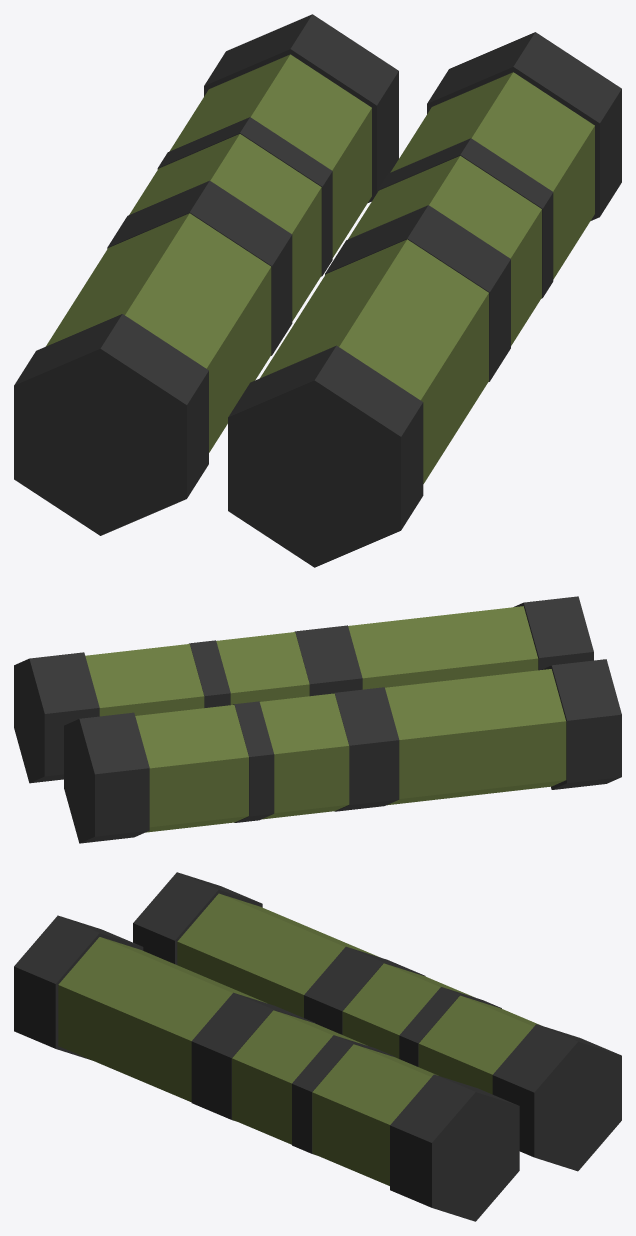
Rendered from ce_ammo2_rpg32_thermo_b.obj.
The picture shows the model from 3 angles, top to bottom: view 1: azimuth 30°, elevation 25°; view 2: azimuth 150°, elevation 25°; view 3: azimuth 270°, elevation 25°; orthographic projection. The views are drawn at different scales.
Parts seen in each view (by area): view 1: ce_ammo2_rpg32_thermo_b_7, ce_ammo2_rpg32_thermo_b_0, ce_ammo2_rpg32_thermo_b_8, ce_ammo2_rpg32_thermo_b_1, ce_ammo2_rpg32_thermo_b_12, ce_ammo2_rpg32_thermo_b_5, ce_ammo2_rpg32_thermo_b_10, ce_ammo2_rpg32_thermo_b_3, ce_ammo2_rpg32_thermo_b_13, ce_ammo2_rpg32_thermo_b_6, ce_ammo2_rpg32_thermo_b_9, ce_ammo2_rpg32_thermo_b_2 (+2 smaller); view 2: ce_ammo2_rpg32_thermo_b_1, ce_ammo2_rpg32_thermo_b_5, ce_ammo2_rpg32_thermo_b_8, ce_ammo2_rpg32_thermo_b_6, ce_ammo2_rpg32_thermo_b_3, ce_ammo2_rpg32_thermo_b_13, ce_ammo2_rpg32_thermo_b_0, ce_ammo2_rpg32_thermo_b_12, ce_ammo2_rpg32_thermo_b_2, ce_ammo2_rpg32_thermo_b_10, ce_ammo2_rpg32_thermo_b_7, ce_ammo2_rpg32_thermo_b_9 (+2 smaller); view 3: ce_ammo2_rpg32_thermo_b_8, ce_ammo2_rpg32_thermo_b_13, ce_ammo2_rpg32_thermo_b_6, ce_ammo2_rpg32_thermo_b_1, ce_ammo2_rpg32_thermo_b_12, ce_ammo2_rpg32_thermo_b_10, ce_ammo2_rpg32_thermo_b_5, ce_ammo2_rpg32_thermo_b_7, ce_ammo2_rpg32_thermo_b_9, ce_ammo2_rpg32_thermo_b_3, ce_ammo2_rpg32_thermo_b_0, ce_ammo2_rpg32_thermo_b_2 (+2 smaller).
Part boxes in pixels (x1,y1,x2,y2): ce_ammo2_rpg32_thermo_b_7: [228, 345, 423, 567]; ce_ammo2_rpg32_thermo_b_0: [14, 314, 208, 535]; ce_ammo2_rpg32_thermo_b_8: [260, 239, 488, 483]; ce_ammo2_rpg32_thermo_b_1: [46, 213, 271, 452]; ce_ammo2_rpg32_thermo_b_12: [390, 72, 594, 279]; ce_ammo2_rpg32_thermo_b_5: [169, 54, 371, 257]; ce_ammo2_rpg32_thermo_b_10: [348, 156, 541, 345]; ce_ammo2_rpg32_thermo_b_3: [129, 134, 321, 321]; ce_ammo2_rpg32_thermo_b_13: [427, 32, 621, 220]; ce_ammo2_rpg32_thermo_b_6: [204, 14, 398, 202]; ce_ammo2_rpg32_thermo_b_9: [325, 205, 510, 381]; ce_ammo2_rpg32_thermo_b_2: [107, 180, 292, 355]; ce_ammo2_rpg32_thermo_b_1: [385, 669, 566, 805]; ce_ammo2_rpg32_thermo_b_5: [135, 705, 248, 832]; ce_ammo2_rpg32_thermo_b_8: [348, 606, 538, 689]; ce_ammo2_rpg32_thermo_b_6: [64, 712, 149, 843]; ce_ammo2_rpg32_thermo_b_3: [259, 693, 349, 819]; ce_ammo2_rpg32_thermo_b_13: [14, 652, 99, 783]; ce_ammo2_rpg32_thermo_b_0: [542, 659, 621, 789]; ce_ammo2_rpg32_thermo_b_12: [85, 644, 204, 716]; ce_ammo2_rpg32_thermo_b_2: [333, 687, 399, 811]; ce_ammo2_rpg32_thermo_b_10: [216, 632, 309, 704]; ce_ammo2_rpg32_thermo_b_7: [513, 596, 593, 670]; ce_ammo2_rpg32_thermo_b_9: [294, 625, 362, 696]; ce_ammo2_rpg32_thermo_b_8: [58, 937, 266, 1102]; ce_ammo2_rpg32_thermo_b_13: [390, 1074, 519, 1221]; ce_ammo2_rpg32_thermo_b_6: [492, 1024, 621, 1171]; ce_ammo2_rpg32_thermo_b_1: [177, 893, 378, 1017]; ce_ammo2_rpg32_thermo_b_12: [312, 1044, 438, 1185]; ce_ammo2_rpg32_thermo_b_10: [232, 1010, 367, 1144]; ce_ammo2_rpg32_thermo_b_5: [418, 995, 540, 1094]; ce_ammo2_rpg32_thermo_b_7: [14, 915, 143, 1060]; ce_ammo2_rpg32_thermo_b_9: [191, 992, 315, 1121]; ce_ammo2_rpg32_thermo_b_3: [342, 963, 475, 1058]; ce_ammo2_rpg32_thermo_b_0: [133, 872, 262, 964]; ce_ammo2_rpg32_thermo_b_2: [304, 946, 425, 1034].
Bounding box in the file's own units: 0.7201 × 0.1696 × 0.7201.
